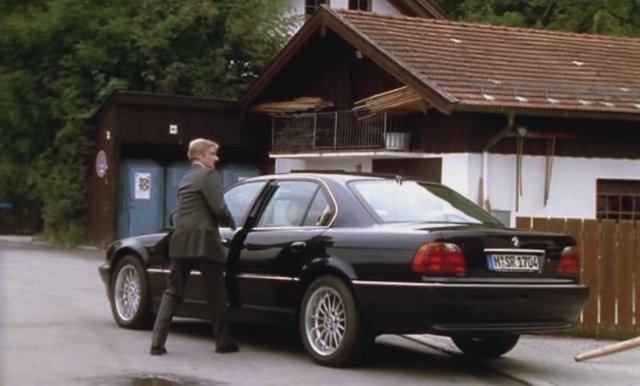plate: (484, 252, 540, 272)
